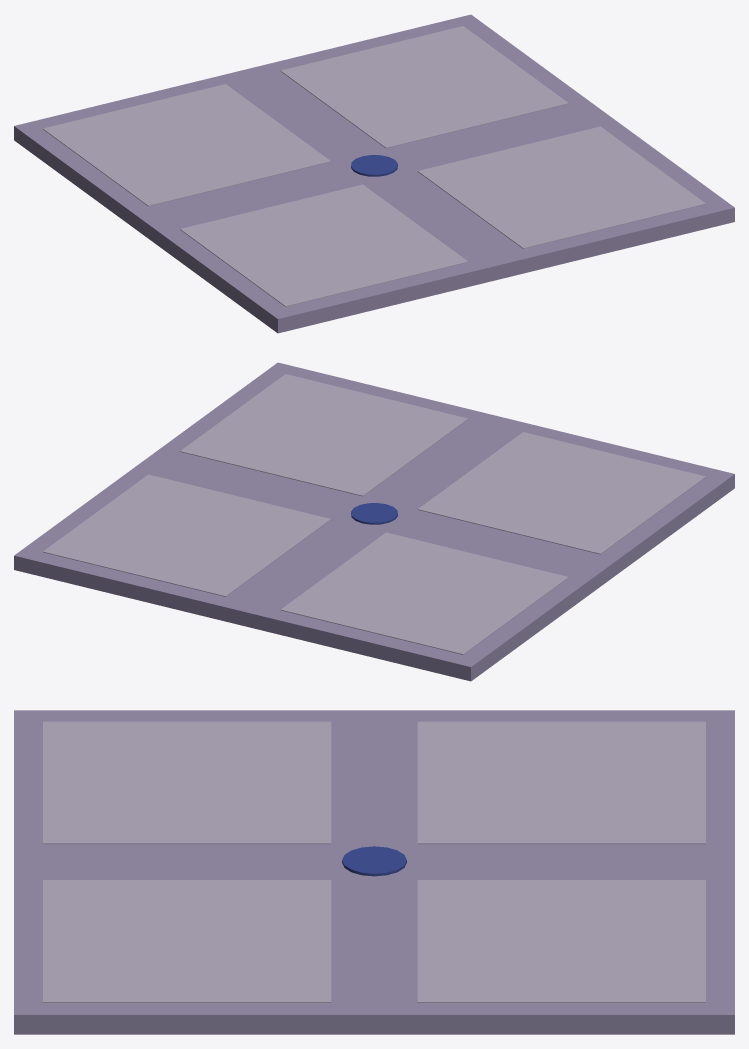
Rendered from plaza_tile.glb.
3 views of the same model, one above another, from view 1: azimuth 30°, elevation 25°; view 2: azimuth 150°, elevation 25°; view 3: azimuth 270°, elevation 25° (orthographic). The views are drawn at different scales.
Parts seen in each view (by area): view 1: plaza_tile; view 2: plaza_tile; view 3: plaza_tile.
Boxes of the visible parts, bbox=[...] form: plaza_tile: bbox=[14, 14, 734, 333]; plaza_tile: bbox=[14, 362, 734, 681]; plaza_tile: bbox=[14, 710, 734, 1034].
Bounding box in the file's own units: 10 × 0.34 × 10.
